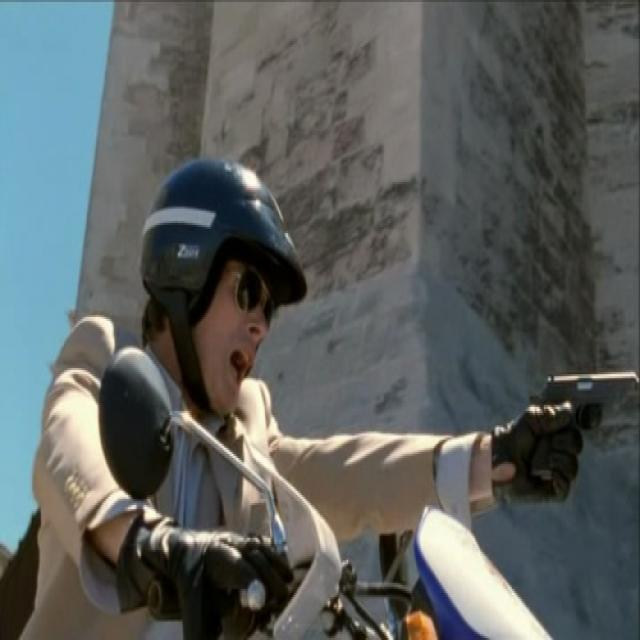weapons: (518, 350, 640, 502)
